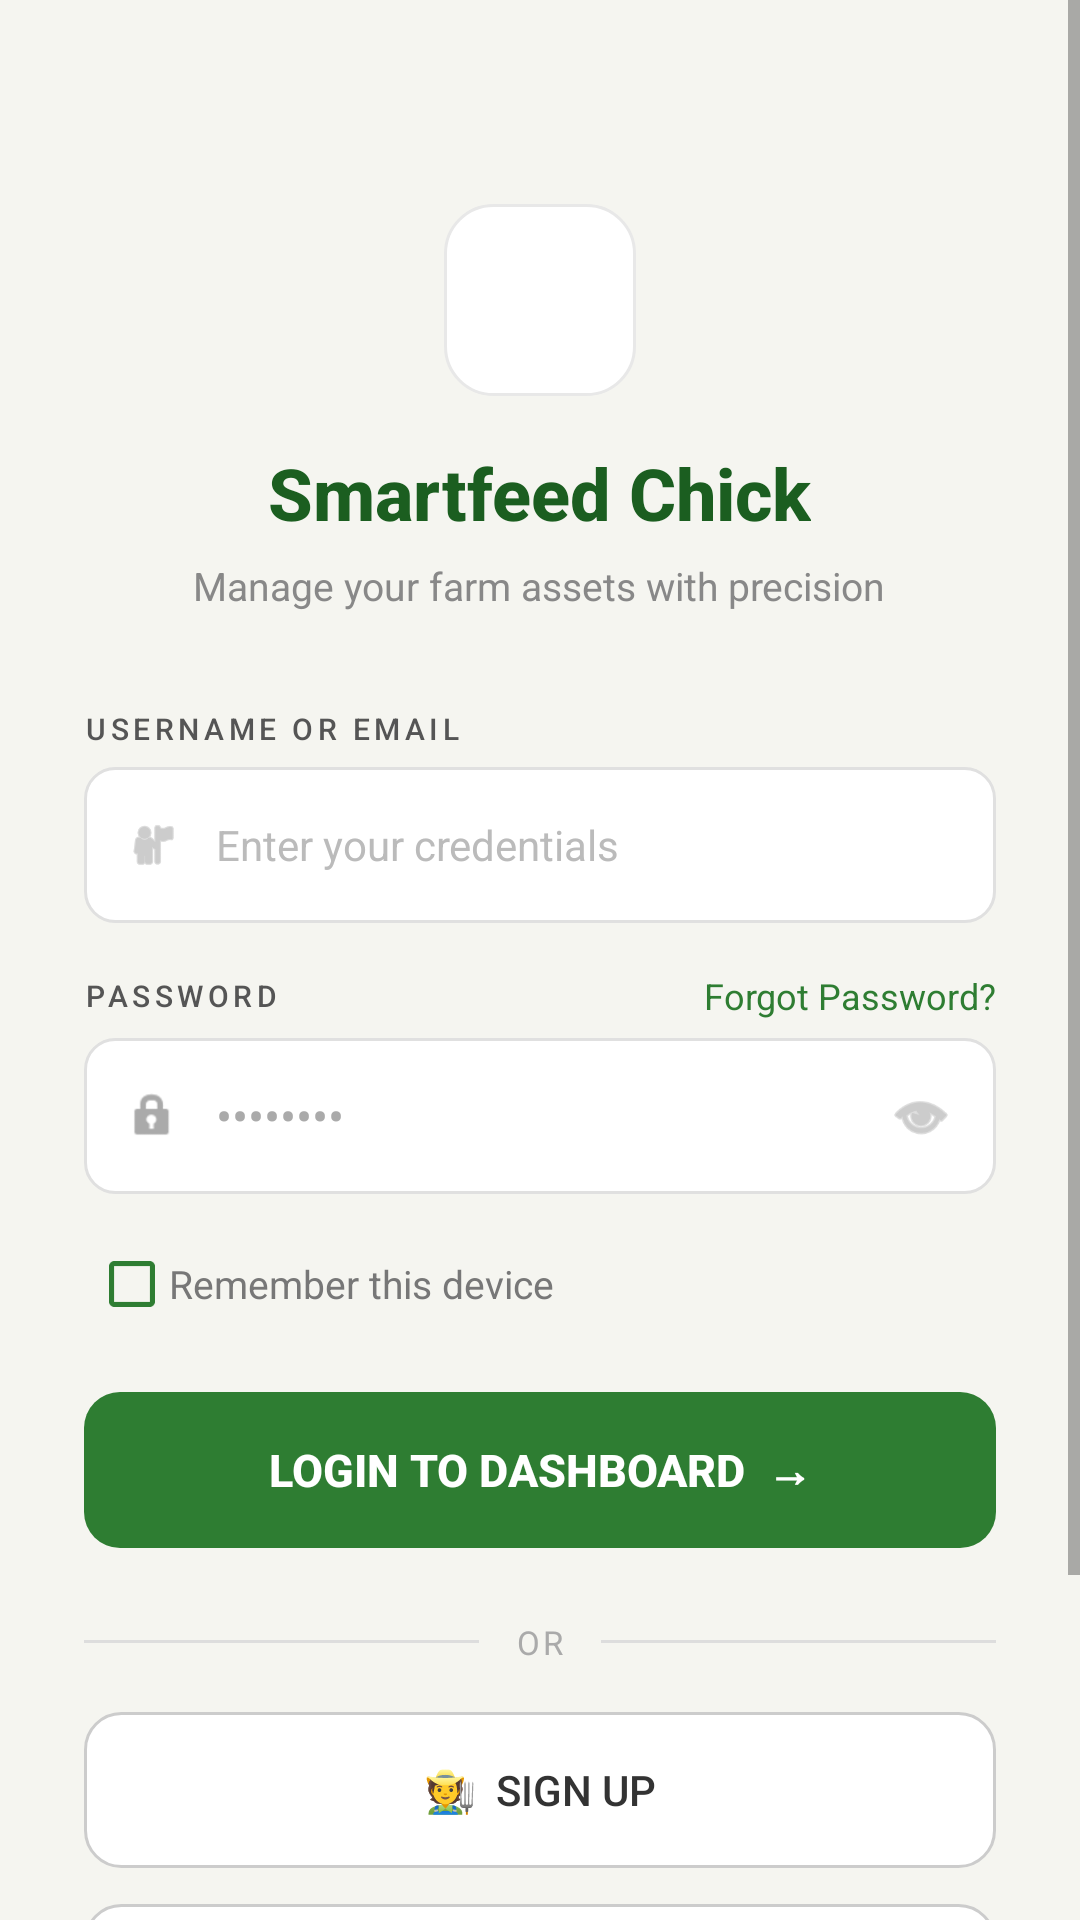

Screen size 1080*1920. Icon name, then its box in pixels as (x1, y1, x2, y2):
lock idle: (134, 1094, 169, 1135)
view: (895, 1101, 947, 1134)
